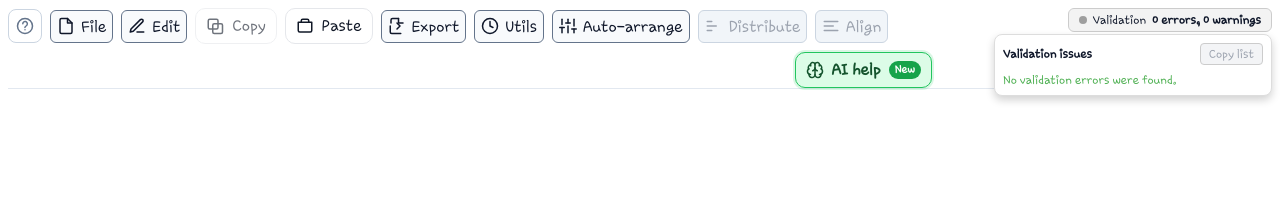
Test: TopToolbar transient surfaces › keeps Validation open until its button is clicked
Expected: the element "Validation issues" is shown, [994,34,1272,96]
Press Escape
Expected: the element "Validation issues" is shown, [994,34,1272,96]
Press v
Expected: the element "Validation issues" is shown, [994,34,1272,96]
Press f
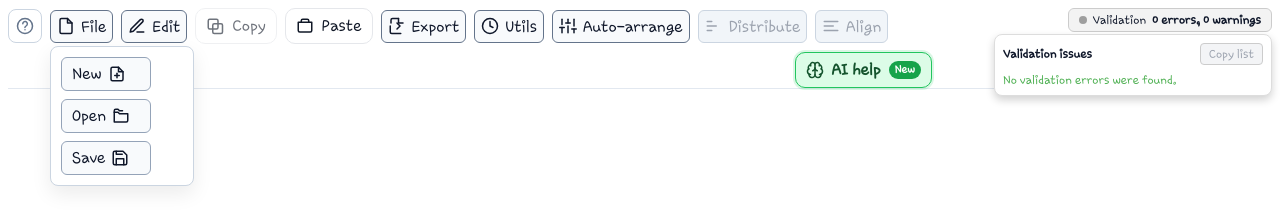
Expected: the element "Validation issues" is shown, [994,34,1272,96]
Click the button "Validation 0 errors, 0 warnings" at (1170, 20), box [1068,8,1272,32]
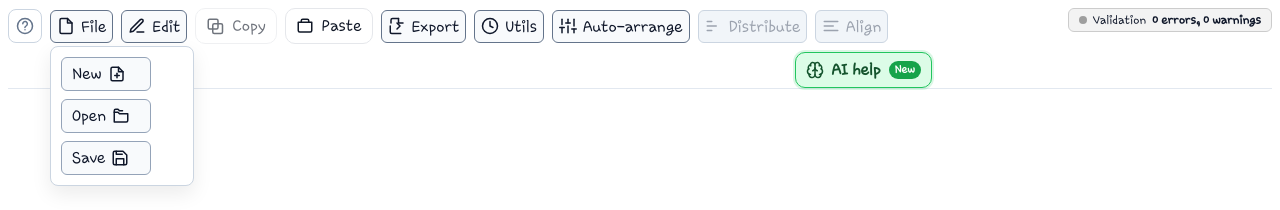
Expected: the text "Validation issues" is gone
Press v
Expected: the text "Validation issues" is not shown
Click the button "Validation 0 errors, 0 warnings" at (1170, 20), box [1068,8,1272,32]
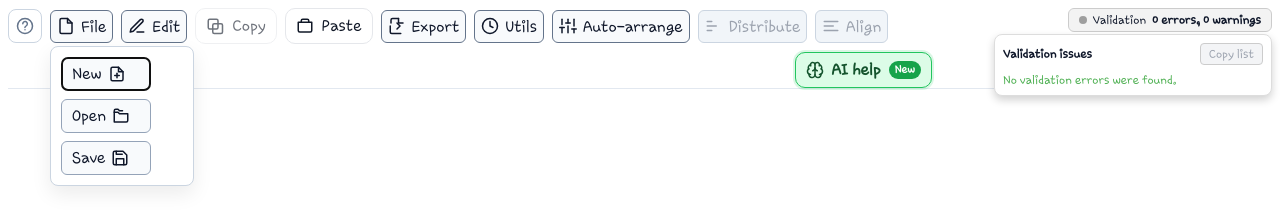
Expected: the element "Validation issues" is shown, [994,34,1272,96]
